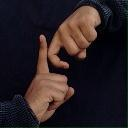hand: (23, 33, 74, 122), (47, 5, 101, 69)
